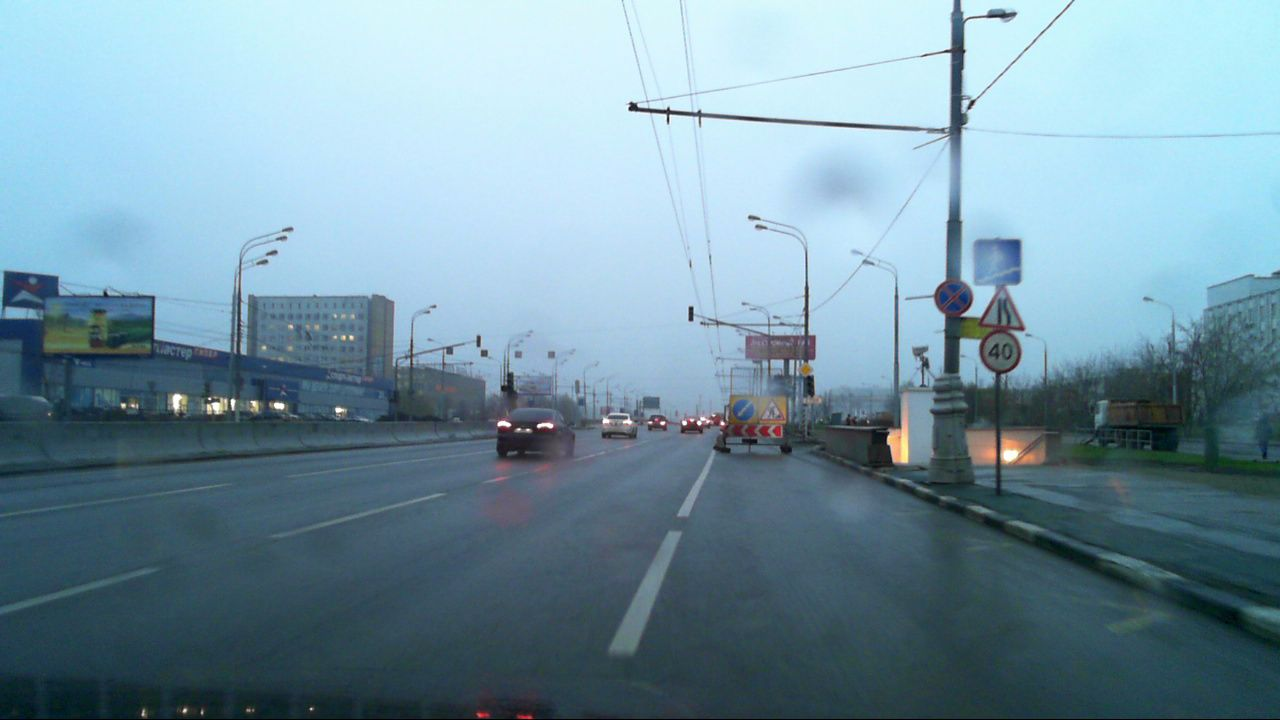No Parking: (935, 279, 971, 317)
speed_warning_40: (979, 333, 1020, 371)
